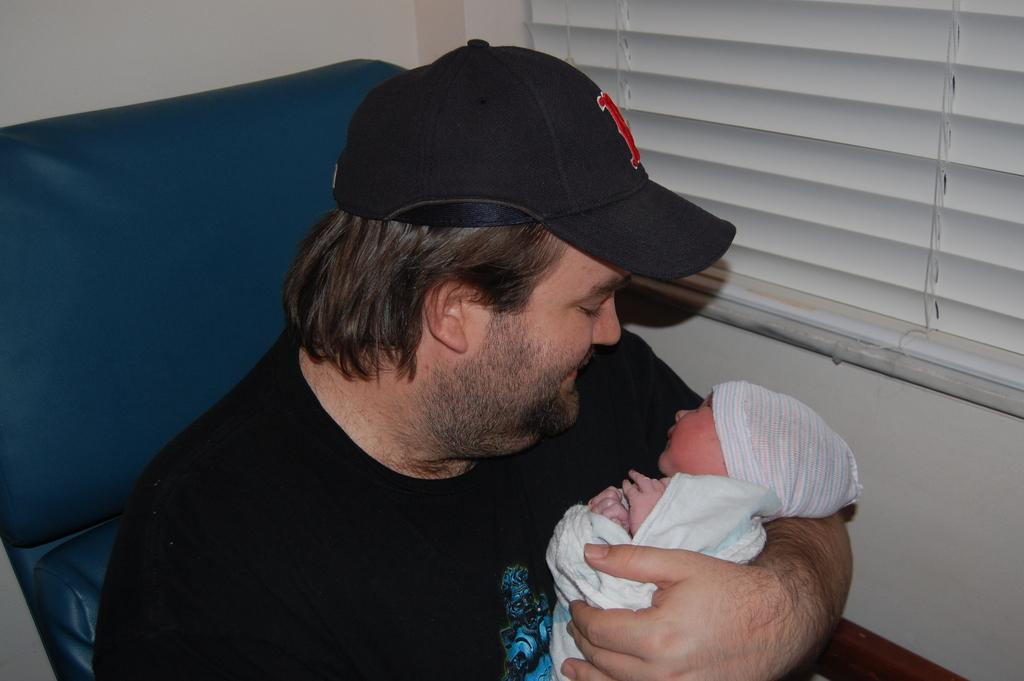Hat: (330, 33, 736, 287)
